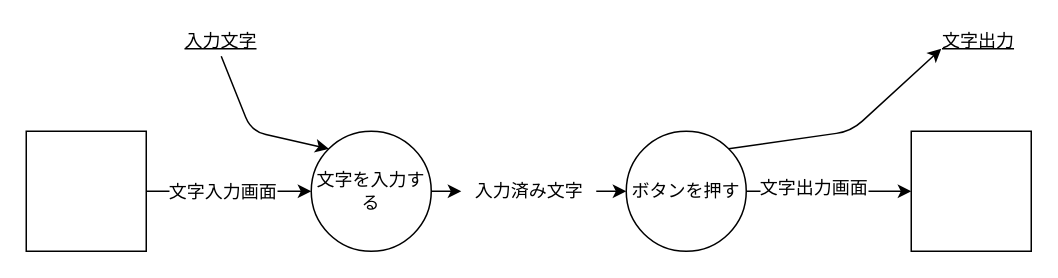
This 1058x278 diagram has some shape labels left out. Here are the shapes that lost their labels. From the top down, the centre of each, then its label:
At (85,190): "使用者".
At (970,190): "文字が表示される".
